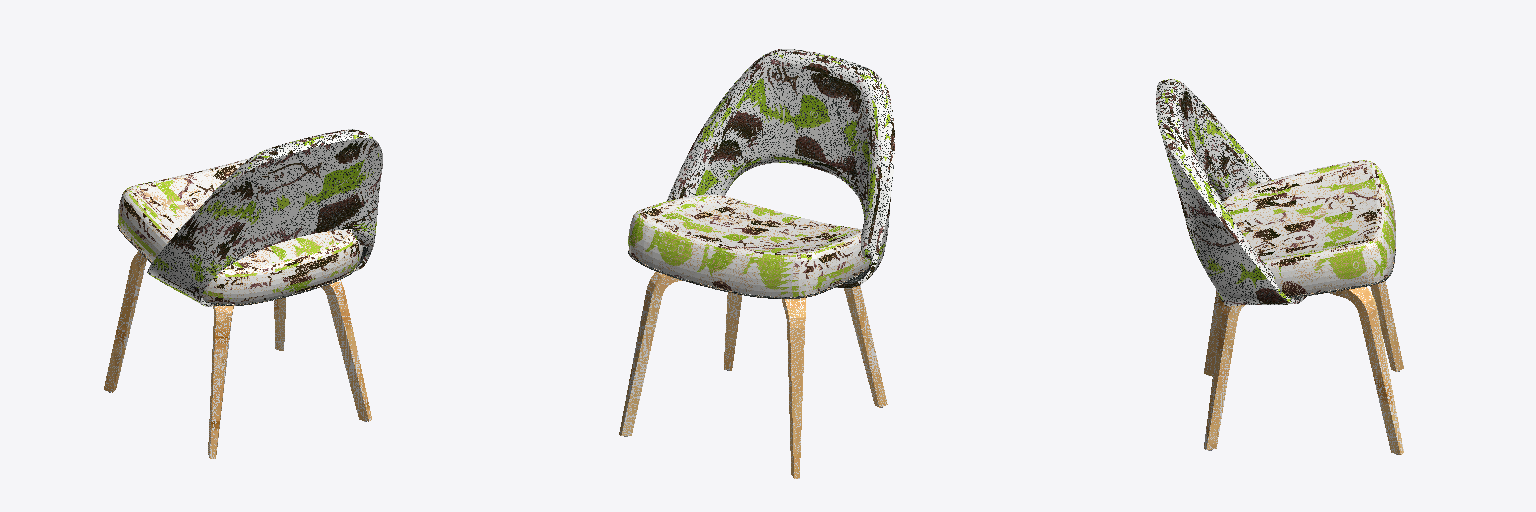
The picture shows the model from 3 angles: view 1: azimuth 30°, elevation 25°; view 2: azimuth 150°, elevation 25°; view 3: azimuth 270°, elevation 25°; orthographic projection.
Parts seen in each view (by area): view 1: group_2_ID123, group_1_ID101, group_0_ID66, group_0_ID42, group_0_ID3, group_0_ID21; view 2: group_2_ID123, group_1_ID101, group_0_ID3, group_0_ID21, group_0_ID42, group_0_ID66, group_1_ID114; view 3: group_1_ID101, group_2_ID123, group_0_ID21, group_0_ID66, group_0_ID3, group_0_ID42.
Part boxes in pixels (left/top/right/bottom): group_2_ID123: left=147, top=129, right=382, bottom=306; group_1_ID101: left=118, top=158, right=362, bottom=303; group_0_ID66: left=321, top=280, right=371, bottom=421; group_0_ID42: left=208, top=306, right=233, bottom=458; group_0_ID3: left=104, top=251, right=146, bottom=392; group_0_ID21: left=274, top=298, right=285, bottom=350; group_2_ID123: left=667, top=49, right=894, bottom=287; group_1_ID101: left=628, top=195, right=871, bottom=296; group_0_ID3: left=782, top=298, right=805, bottom=478; group_0_ID21: left=619, top=272, right=681, bottom=435; group_0_ID42: left=844, top=285, right=887, bottom=407; group_0_ID66: left=724, top=292, right=741, bottom=370; group_1_ID114: left=628, top=250, right=865, bottom=298; group_1_ID101: left=1217, top=160, right=1395, bottom=299; group_2_ID123: left=1156, top=79, right=1306, bottom=305; group_0_ID21: left=1330, top=287, right=1403, bottom=454; group_0_ID66: left=1204, top=303, right=1244, bottom=449; group_0_ID3: left=1370, top=281, right=1403, bottom=371; group_0_ID42: left=1204, top=290, right=1223, bottom=376.
Size of the model in its own units: 0.5002 by 0.7059 by 0.5016.
9 materials, 5 textured.